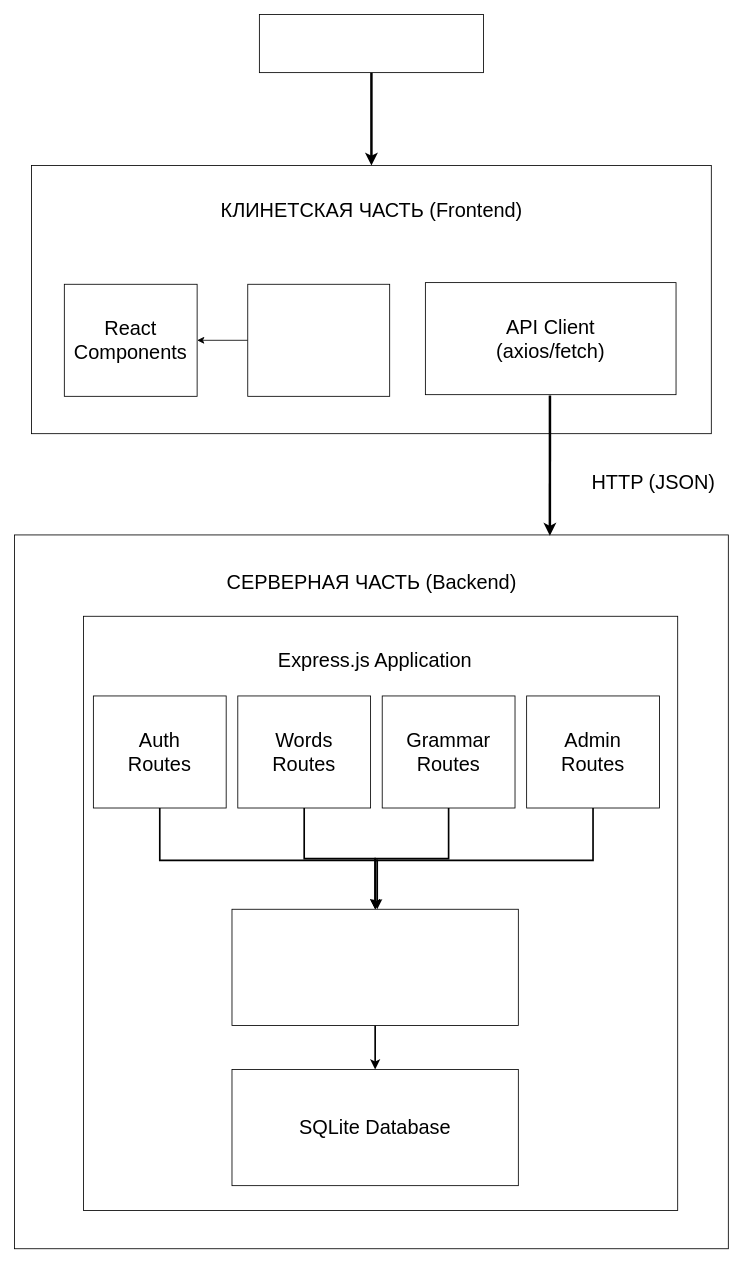
This 745x1263 diagram has some shape labels left out. Here are the shapes that lost their labels. From the top down, the box of each, then its label:
(259, 14, 483, 73): ПОЛЬЗОВАТЕЛЬ
(247, 283, 390, 396): React Router
(231, 908, 518, 1025): MIddleware (Auth, AdminAuth)
